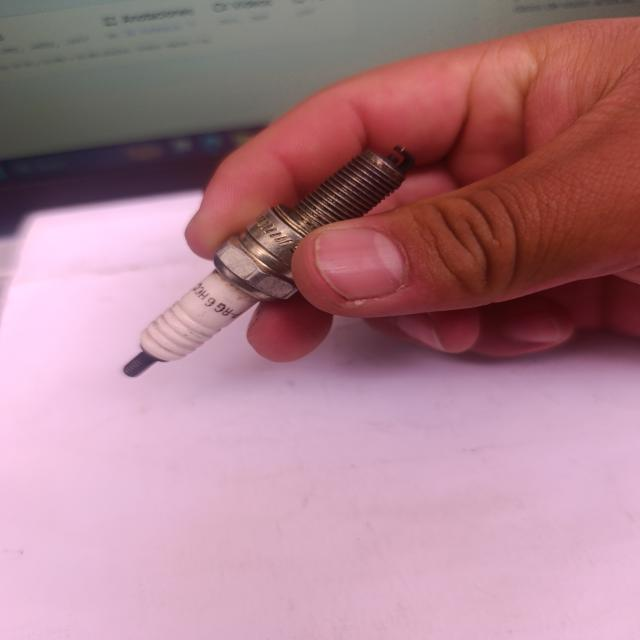bujia: (123, 147, 413, 377)
